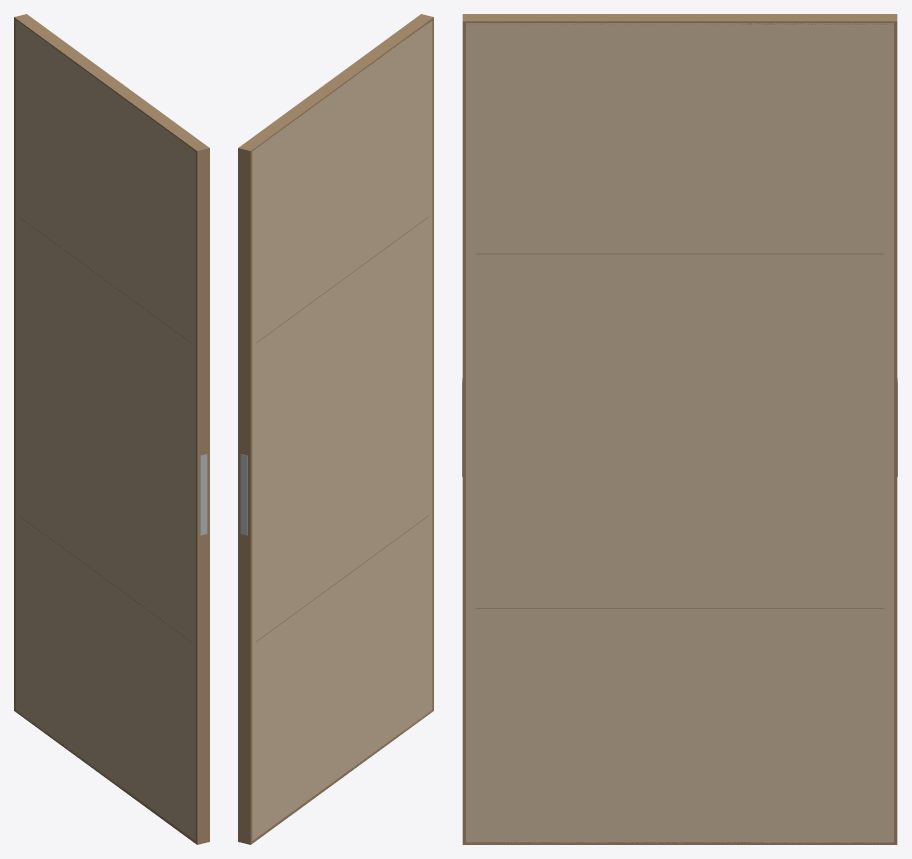
The model's file is SM_Int_Door_Wood.fbx.
3 views of the same model, side by side, from view 1: azimuth 30°, elevation 25°; view 2: azimuth 150°, elevation 25°; view 3: azimuth 270°, elevation 25° (orthographic). The views are drawn at different scales.
Parts seen in each view (by area): view 1: SM_Int_Door_Wood; view 2: SM_Int_Door_Wood; view 3: SM_Int_Door_Wood.
Part boxes in pixels (left/top/right/bottom): SM_Int_Door_Wood: left=14, top=14, right=209, bottom=844; SM_Int_Door_Wood: left=238, top=14, right=433, bottom=844; SM_Int_Door_Wood: left=462, top=14, right=897, bottom=844.
Size of the model in its own units: 1 by 0.0406 by 2.09.
